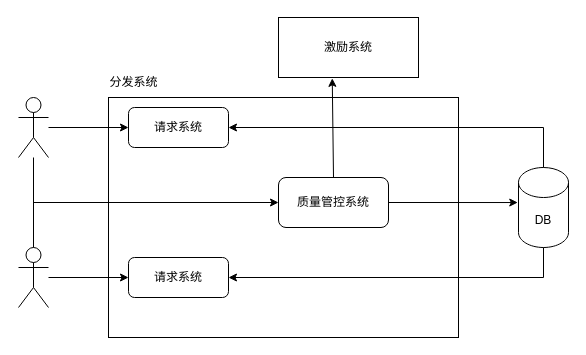
This 586x355 diagram has some shape labels left out. The shapes that lost their labels are listed below. From the top down, each one's centre as x and y in pixels, then its label:
(33,127): 工人A
(33,277): 工人B
